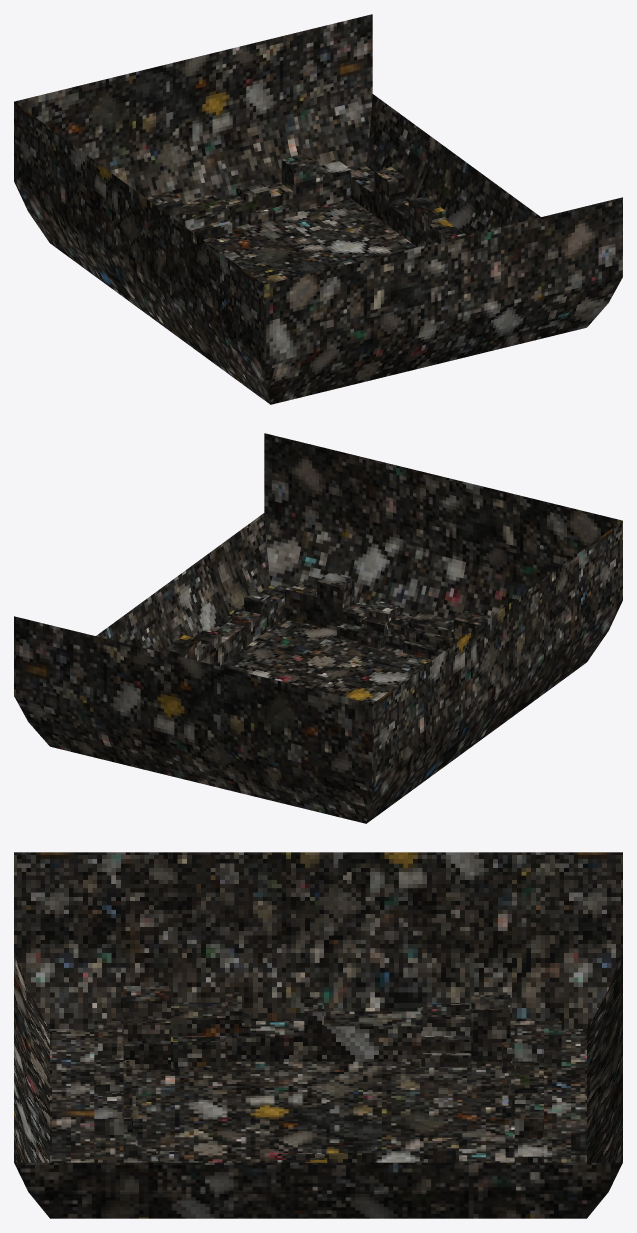
Rendered from chao_scene.fbx.
3 renders of one model, top to bottom at view 1: azimuth 30°, elevation 25°; view 2: azimuth 150°, elevation 25°; view 3: azimuth 270°, elevation 25°, orthographic. The views are drawn at different scales.
Parts seen in each view (by area): view 1: chao_scene; view 2: chao_scene; view 3: chao_scene.
Boxes of the visible parts, <box> form: chao_scene: <box>14,14,622,404</box>; chao_scene: <box>14,433,622,823</box>; chao_scene: <box>14,852,622,1218</box>.
Bounding box in the file's own units: 2099 × 766 × 2536.
1 material, 1 textured.
